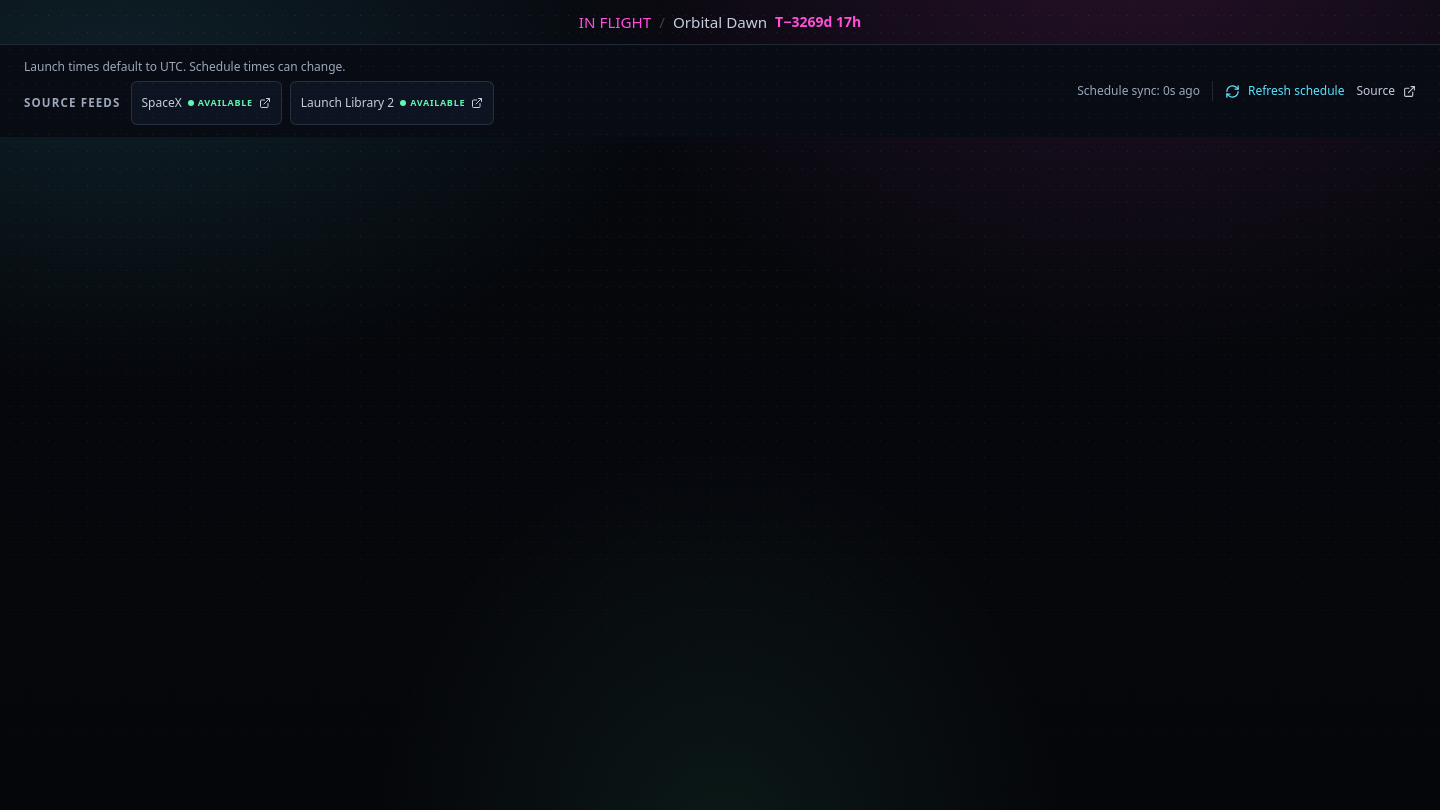
Test: LaunchTicker › does not present retained live state as confirmed coverage
Click the button with aria-label "Refresh launch schedule".
click(1285, 91)  # box [1225,69,1344,113]
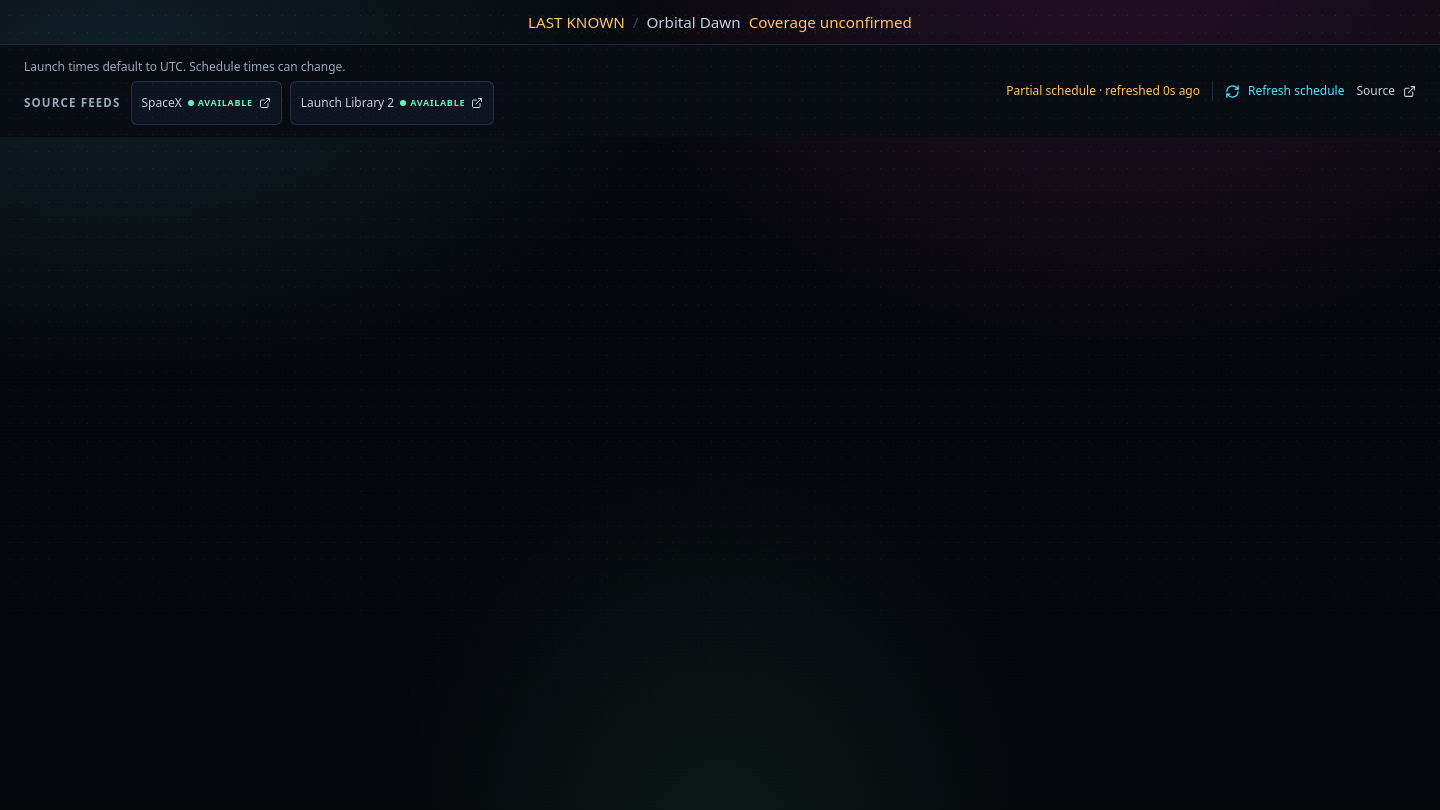
Expected: the link "LAST KNOWN / Orbital Dawn Coverage unconfirmed" does not show "LIVE", [528,12,912,32]
Expected: the link "LAST KNOWN / Orbital Dawn Coverage unconfirmed" is shown, [528,12,912,32]
